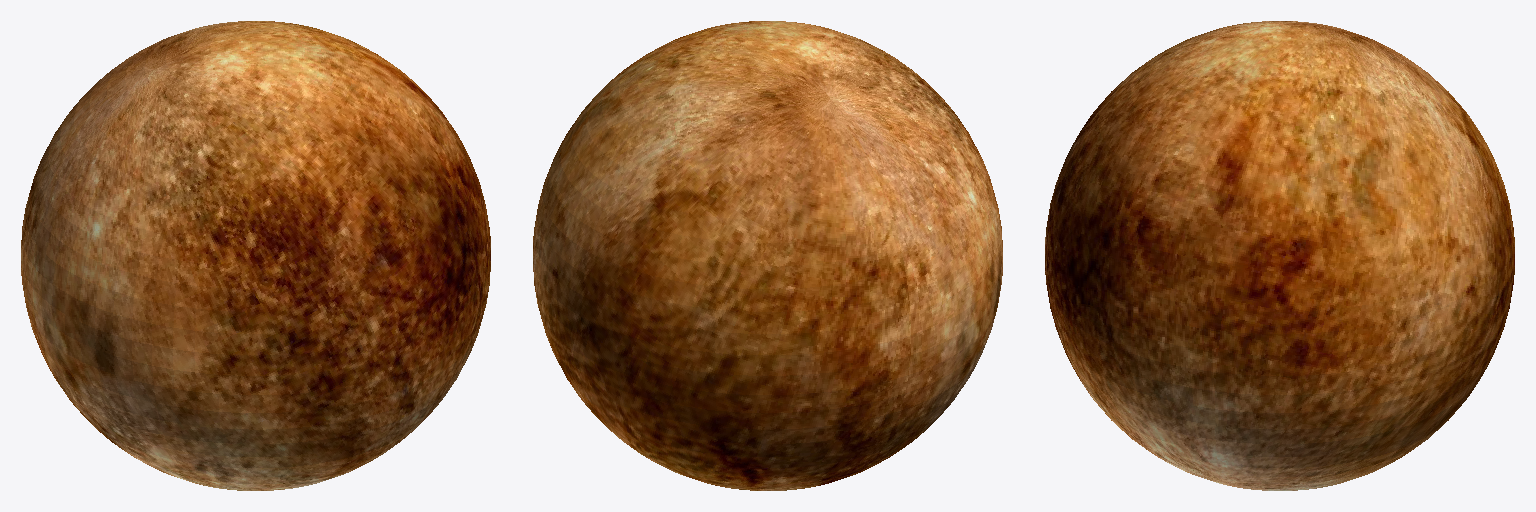
3 views of the same model, side by side, from view 1: azimuth 30°, elevation 25°; view 2: azimuth 150°, elevation 25°; view 3: azimuth 270°, elevation 25° (orthographic).
Parts seen in each view (by area): view 1: Sphere; view 2: Sphere; view 3: Sphere.
Part boxes in pixels (bbox=[...]): Sphere: bbox=[21, 21, 490, 490]; Sphere: bbox=[533, 21, 1002, 490]; Sphere: bbox=[1045, 21, 1514, 490].
Size of the model in its own units: 2 by 2 by 2.
1 materials, 1 textured.